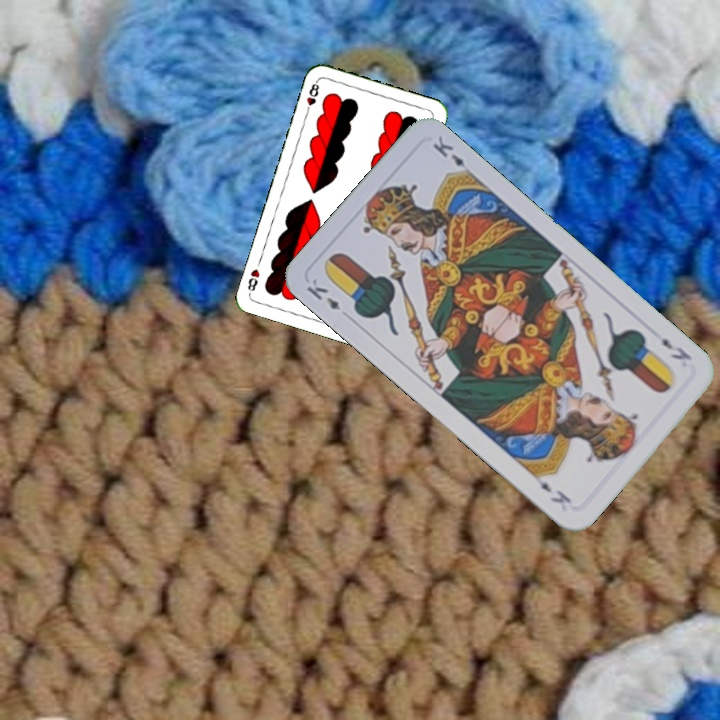EK: (302, 274, 343, 313), (657, 333, 694, 363)
H8: (302, 77, 322, 117)
